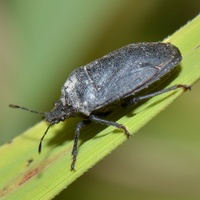insect: (0, 118, 125, 199), (104, 88, 183, 133), (142, 45, 199, 93)
